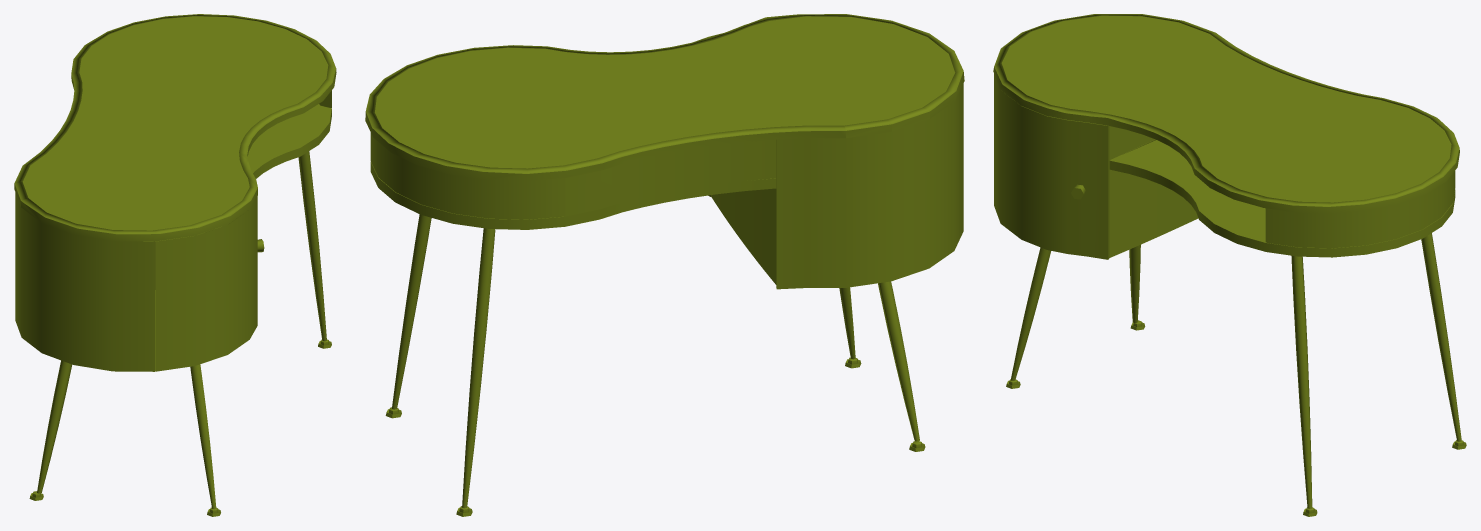
Rendered from Desk.fbx.
3 renders of one model, left to right at view 1: azimuth 30°, elevation 25°; view 2: azimuth 150°, elevation 25°; view 3: azimuth 270°, elevation 25°, orthographic. The views are drawn at different scales.
Visible parts, largest first — view 1: Desk000; view 2: Desk000; view 3: Desk000.
Part boxes in pixels (x1=…): Desk000: x1=14, y1=14, x2=336, y2=516; Desk000: x1=365, y1=14, x2=964, y2=516; Desk000: x1=993, y1=14, x2=1466, y2=516.
Bounding box in the file's own units: 1066 × 778 × 1084.
